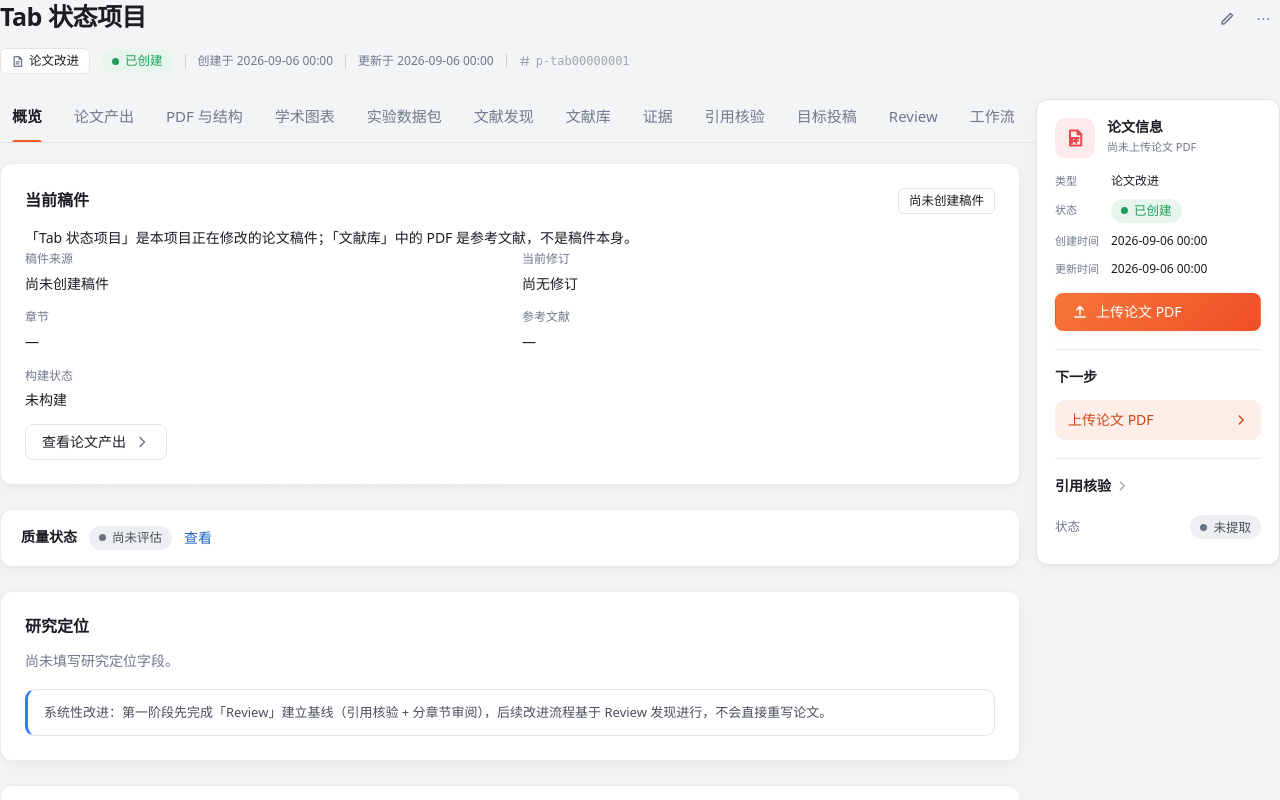
Test: ProjectPage Tab 导航（UX Polish 2026-09） › 点击 Tab 切换内容
This screenshot has width=1280, height=800.
Check: the heading "研究定位" is shown, box [25,616,89,638]
Click the tab "引用核验" at [735, 118], box [693,94,777,142]
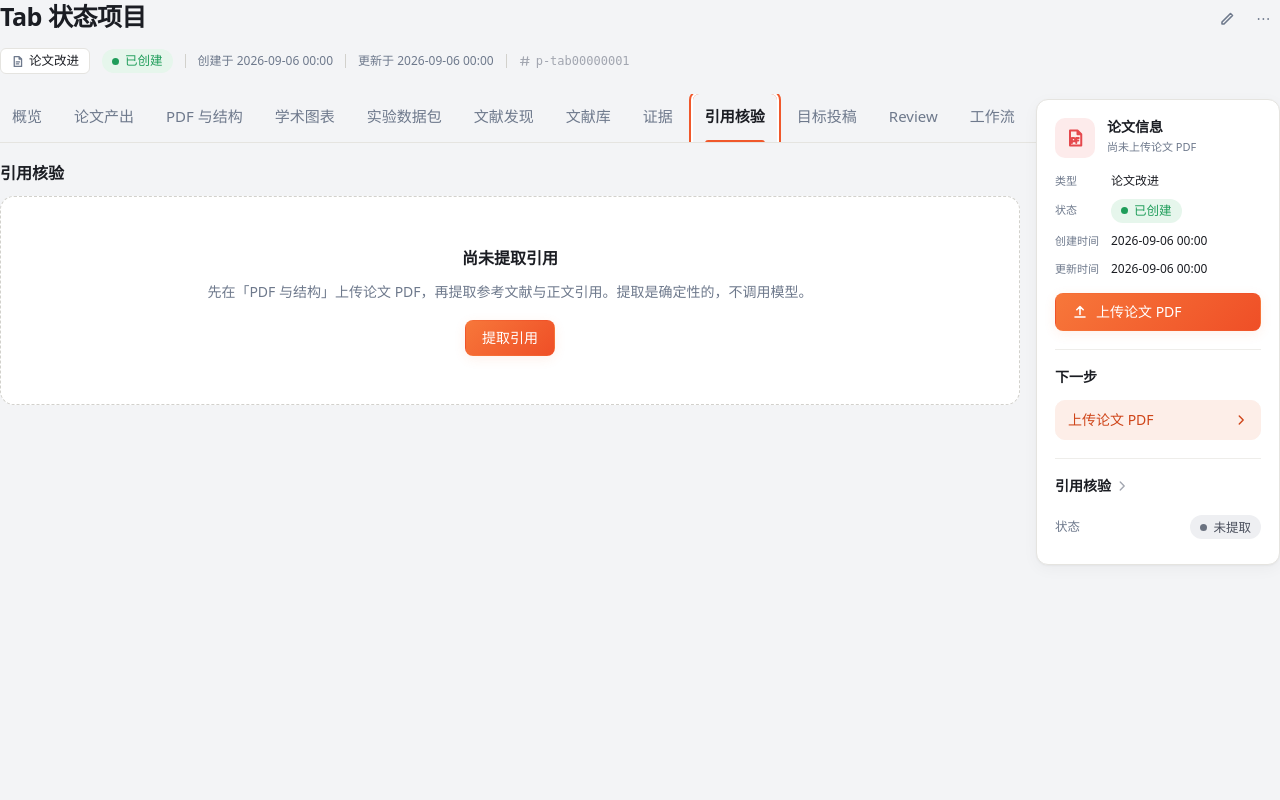
Check: the text "尚未提取引用" is shown, box [462,245,558,272]
Click the tab "概览" at [27, 118], box [0,94,54,142]
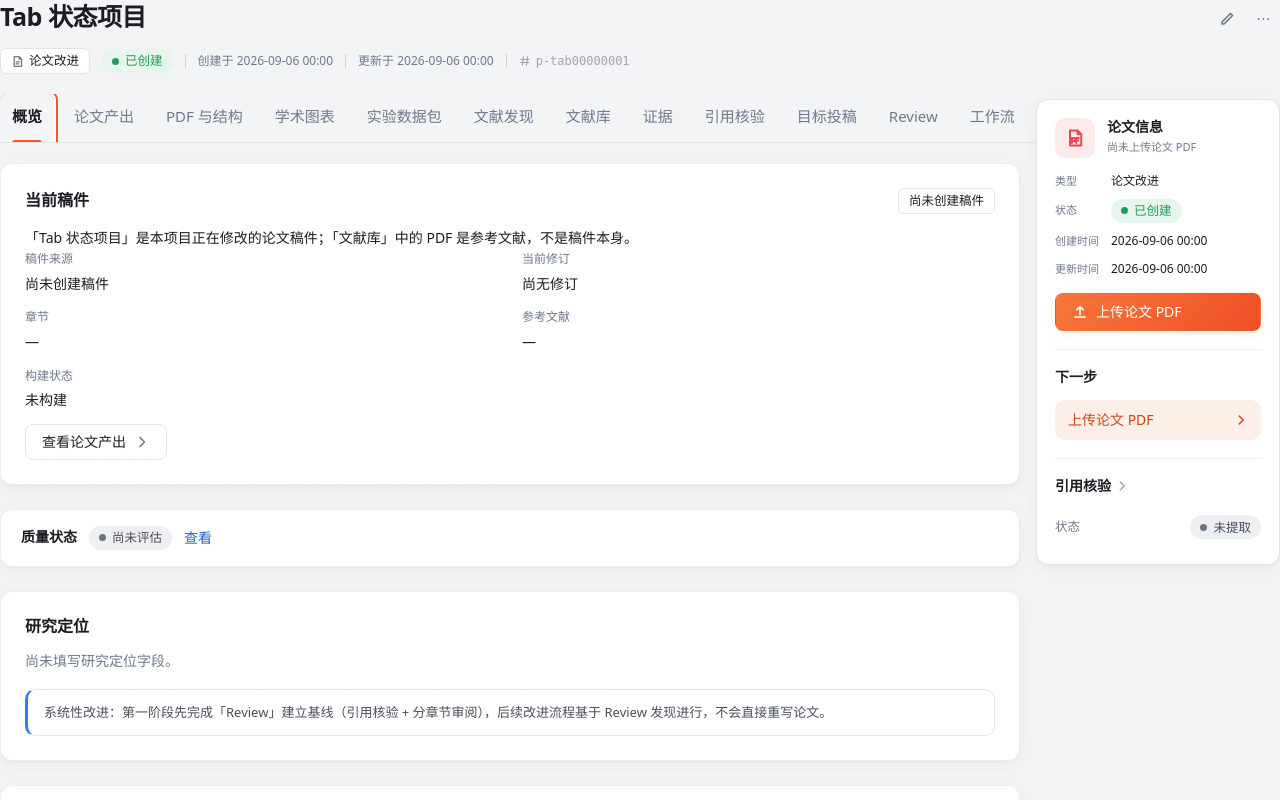
Check: the heading "研究定位" is shown, box [25,616,89,638]
